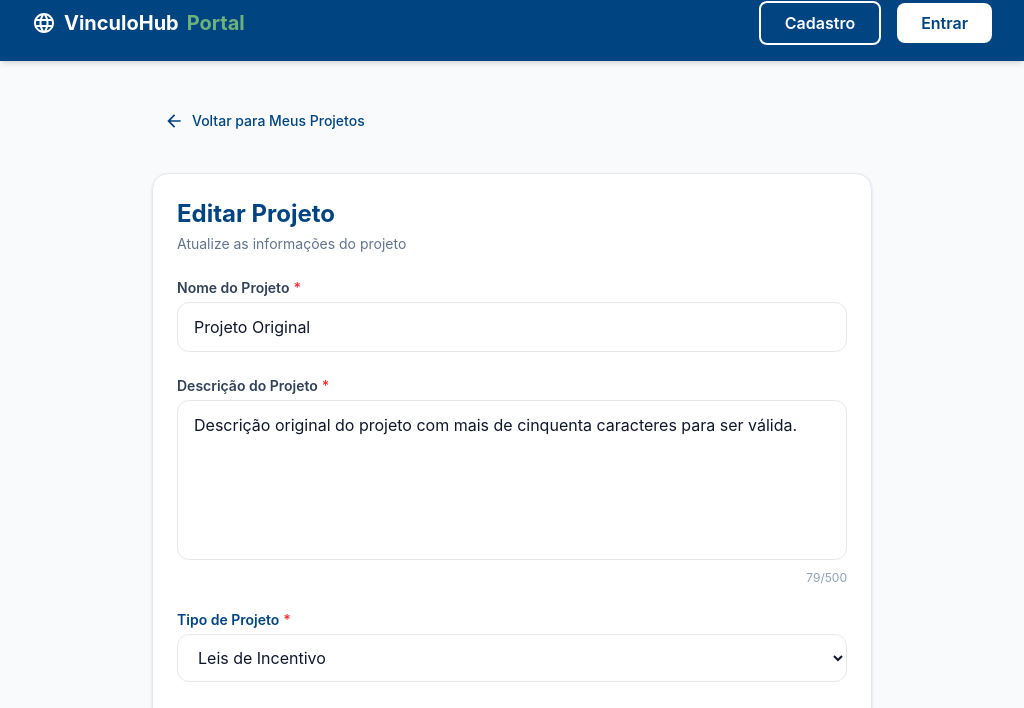
Test case: EditProjectPage › exibe erro de validação quando descrição é curta demais
Expected: the field showing "Projeto Original" is shown, [177, 302, 847, 352]
Replace the text in the text box labelled "Descrição do Projeto *" with "Curta" at [512, 480], box [177, 400, 847, 560]
(page scrolled)
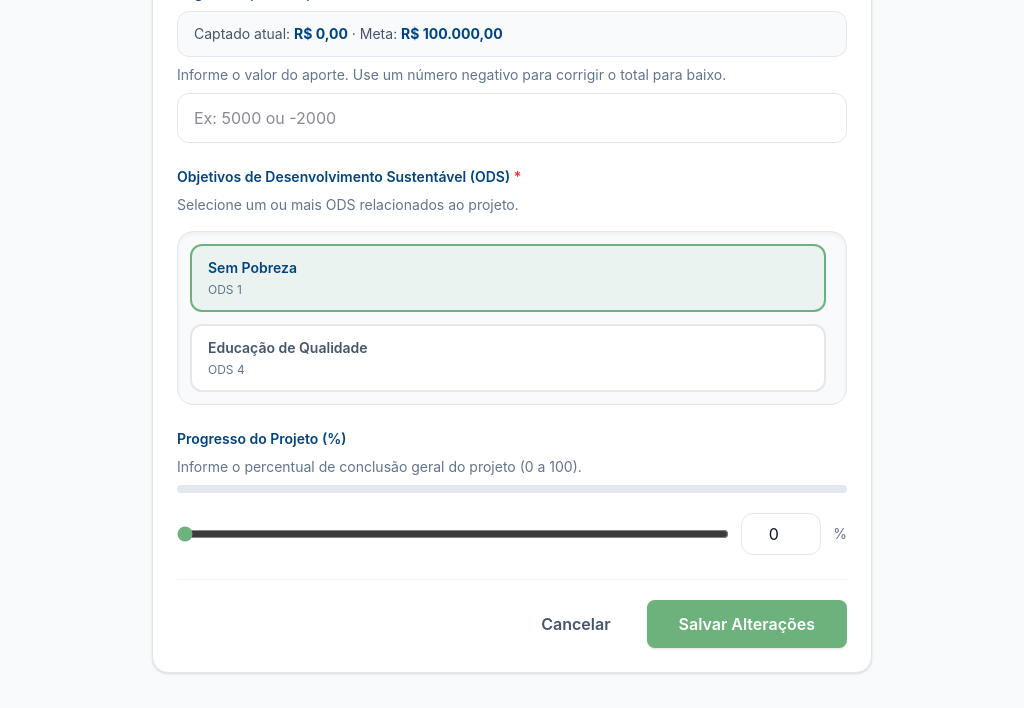
Click the button "Salvar Alterações" at [747, 624], box [646, 600, 847, 648]
(page scrolled)
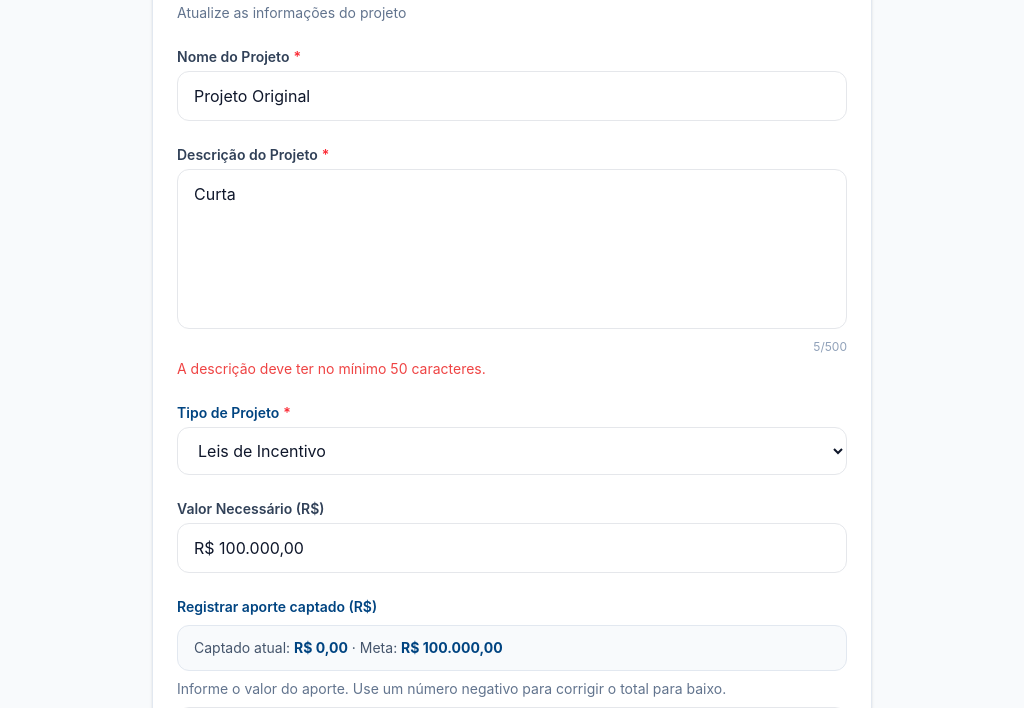
Now the text "A descrição deve ter no mínimo 50 caracteres." is shown, box [177, 360, 486, 377]
